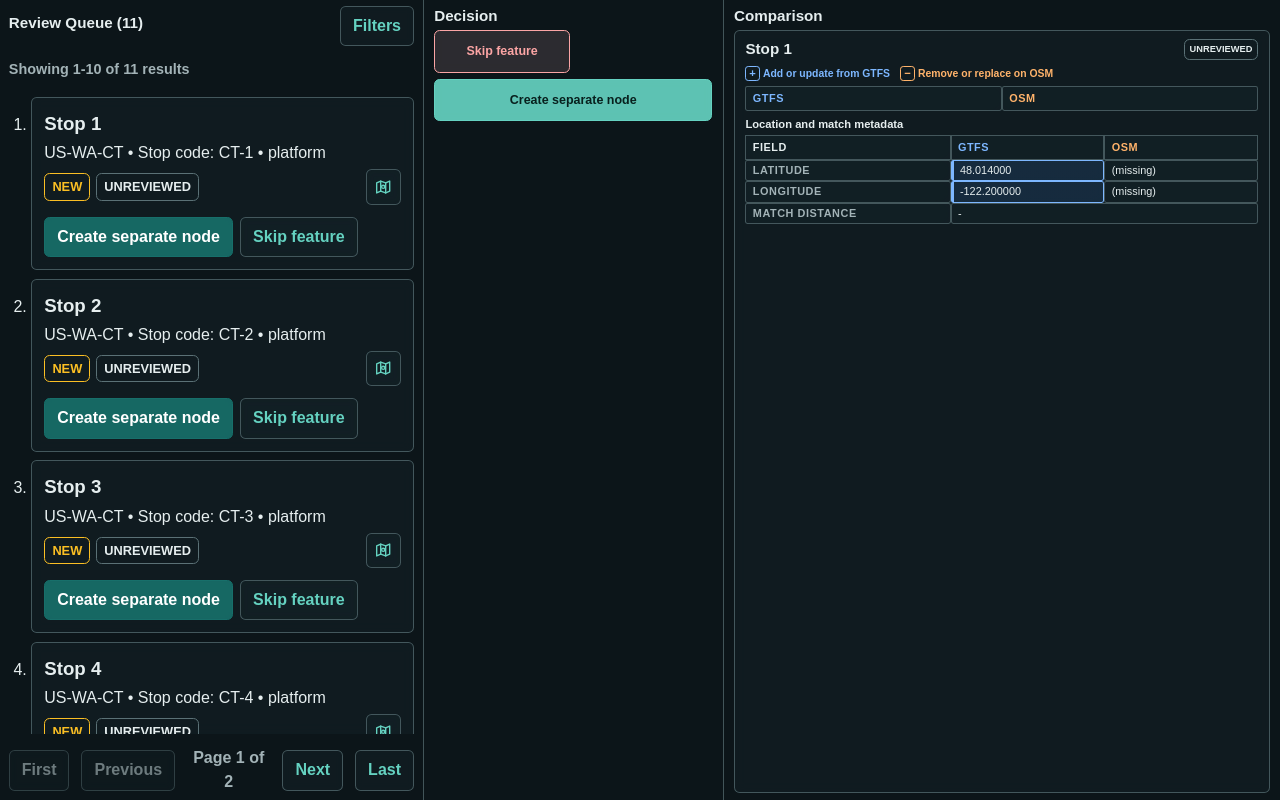
Test case: ReviewQueue › paginates results in groups of ten
Check: the text "Showing 1-10 of 11 results" is shown, box [9, 61, 190, 77]
Click the button "Next".
click(313, 770)  # box [282, 750, 343, 791]
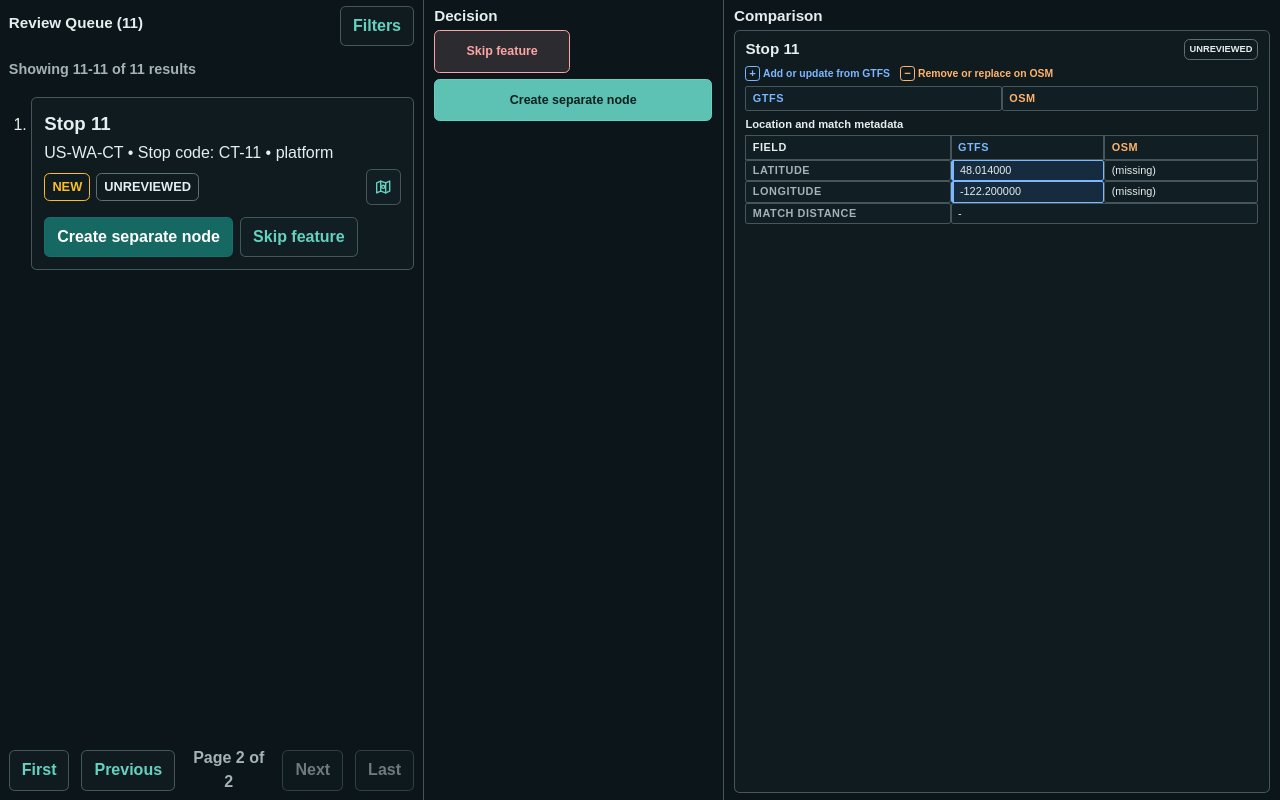
Check: the button named "Focus Stop 11 on the map" is shown, box [366, 169, 401, 205]
Check: the text "Showing 11-11 of 11 results" is shown, box [9, 61, 196, 77]
